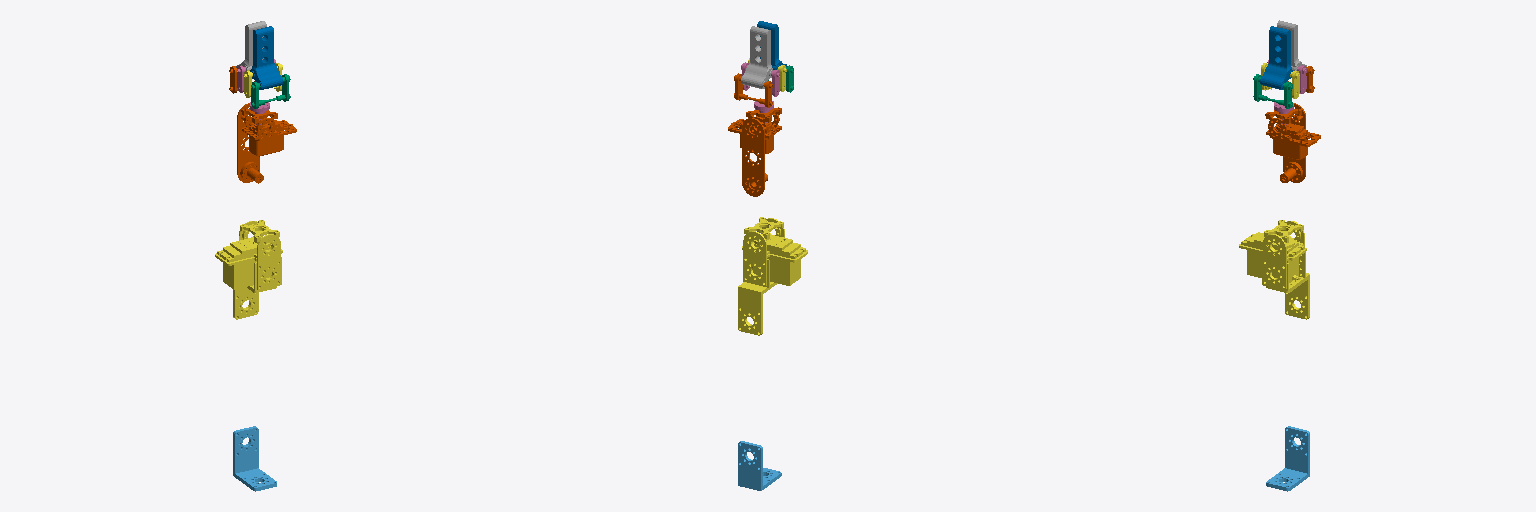
robot.urdf — kbot_arm:
<?xml version="1.0" ?>
<!-- =================================================================================== -->
<!-- |    This document was autogenerated by xacro from kbot.urdf.xacro                | -->
<!-- |    EDITING THIS FILE BY HAND IS NOT RECOMMENDED                                 | -->
<!-- =================================================================================== -->
<robot name="kbot_arm" xmlns:xacro="http://ros.org/wiki/xacro">
  <!-- links: main serial chain -->
  <link name="base_link">
    <visual>
      <origin rpy="0 0 0" xyz="0 0 0"/>
      <geometry>
        <mesh filename="package://kbot_arm/meshes/visual/base_link.stl"/>
      </geometry>
    </visual>
    <collision>
      <origin rpy="0 0 0" xyz="0 0 0"/>
      <geometry>
        <mesh filename="package://kbot_arm/meshes/visual/base_link.stl"/>
      </geometry>
    </collision>
  </link>
  <link name="link_1">
    <inertial>
      <origin rpy="0 0 0" xyz="0.024447 -0.021134 -1.8077E-17"/>
      <mass value="0.019005"/>
      <inertia ixx="0" ixy="0" ixz="0" iyy="0" iyz="0" izz="0"/>
    </inertial>
    <visual>
      <origin rpy="0 0 0" xyz="0 0 0"/>
      <geometry>
        <mesh filename="package://kbot_arm/meshes/visual/proximal_arm_roll.stl"/>
      </geometry>
    </visual>
    <collision>
      <origin rpy="0 0 0" xyz="0 0 0"/>
      <geometry>
        <mesh filename="package://kbot_arm/meshes/visual/proximal_arm_roll.stl"/>
      </geometry>
    </collision>
  </link>
  <link name="link_2">
    <inertial>
      <origin rpy="0 0 0" xyz="-0.0925593094846925 -0.00915463972546963 -9.9500450073132E-17"/>
      <mass value="0.130669135830331"/>
      <inertia ixx="0" ixy="0" ixz="0" iyy="0" iyz="0" izz="0"/>
    </inertial>
    <visual>
      <origin rpy="0 0 0" xyz="0 0 0"/>
      <geometry>
        <mesh filename="package://kbot_arm/meshes/visual/proximal_arm_pitch.stl"/>
      </geometry>
    </visual>
    <collision>
      <origin rpy="0 0 0" xyz="0 0 0"/>
      <geometry>
        <mesh filename="package://kbot_arm/meshes/visual/proximal_arm_pitch.stl"/>
      </geometry>
    </collision>
  </link>
  <link name="link_3">
    <visual>
      <origin rpy="0 0 0" xyz="0 0 0"/>
      <geometry>
        <mesh filename="package://kbot_arm/meshes/visual/medial_arm_pitch.stl"/>
      </geometry>
    </visual>
    <collision>
      <origin rpy="0 0 0" xyz="0 0 0"/>
      <geometry>
        <mesh filename="package://kbot_arm/meshes/visual/medial_arm_pitch.stl"/>
      </geometry>
    </collision>
  </link>
  <link name="link_4">
    <visual>
      <origin rpy="0 0 0" xyz="0 0 0"/>
      <geometry>
        <mesh filename="package://kbot_arm/meshes/visual/medial_arm_roll.stl"/>
      </geometry>
    </visual>
    <collision>
      <origin rpy="0 0 0" xyz="0 0 0"/>
      <geometry>
        <mesh filename="package://kbot_arm/meshes/visual/medial_arm_roll.stl"/>
      </geometry>
    </collision>
  </link>
  <link name="link_5">
    <visual>
      <origin rpy="0 0 0" xyz="0 0 0"/>
      <geometry>
        <mesh filename="package://kbot_arm/meshes/visual/distal_arm_pitch.stl"/>
      </geometry>
    </visual>
    <collision>
      <origin rpy="0 0 0" xyz="0 0 0"/>
      <geometry>
        <mesh filename="package://kbot_arm/meshes/visual/distal_arm_pitch.stl"/>
      </geometry>
    </collision>
  </link>
  <link name="link_6">
    <visual>
      <origin rpy="0 0 0" xyz="0 0 0"/>
      <geometry>
        <mesh filename="package://kbot_arm/meshes/visual/distal_arm_roll.stl"/>
      </geometry>
    </visual>
    <collision>
      <origin rpy="0 0 0" xyz="0 0 0"/>
      <geometry>
        <mesh filename="package://kbot_arm/meshes/visual/distal_arm_roll.stl"/>
      </geometry>
    </collision>
  </link>
  <!-- joints: main serial chain -->
  <joint name="joint_1" type="revolute">
    <origin rpy="0 0 0" xyz="0 0 0.068"/>
    <parent link="base_link"/>
    <child link="link_1"/>
    <axis xyz="0 0 1"/>
    <limit effort="0" lower="-3.14159" upper="3.14159" velocity="3.67"/>
  </joint>
  <joint name="joint_2" type="revolute">
    <origin rpy="0 0 0" xyz="0 0 0.04448"/>
    <parent link="link_1"/>
    <child link="link_2"/>
    <axis xyz="0 1 0"/>
    <limit effort="0" lower="-2.15" upper="2.15" velocity="3.32"/>
  </joint>
  <joint name="joint_3" type="revolute">
    <origin rpy="0 0 0" xyz="0 0 0.18744"/>
    <parent link="link_2"/>
    <child link="link_3"/>
    <axis xyz="0 1 0"/>
    <limit effort="0" lower="-2.2" upper="2.05" velocity="3.67"/>
  </joint>
  <joint name="joint_4" type="revolute">
    <origin rpy="0 0 0" xyz="0 0 0.10293"/>
    <parent link="link_3"/>
    <child link="link_4"/>
    <axis xyz="0 0 1"/>
    <limit effort="0" lower="-3.14159" upper="3.14159" velocity="6.98"/>
  </joint>
  <joint name="joint_5" type="revolute">
    <origin rpy="0 0 0" xyz="0 0 0.08255"/>
    <parent link="link_4"/>
    <child link="link_5"/>
    <axis xyz="0 1 0"/>
    <limit effort="0" lower="-2" upper="2.3" velocity="6.98"/>
  </joint>
  <joint name="joint_6" type="revolute">
    <origin rpy="0 0 0" xyz="0 0 0.07675"/>
    <parent link="link_5"/>
    <child link="link_6"/>
    <axis xyz="0 0 1"/>
    <limit effort="0" lower="-3.14159" upper="3.14159" velocity="10.47"/>
  </joint>
  <!-- ROS-Industrial 'base' frame: base_link to Fanuc World Coordinates transform -->
  <link name="world"/>
  <joint name="base_joint" type="fixed">
    <origin rpy="0 0 0" xyz="0 0 0"/>
    <parent link="world"/>
    <child link="base_link"/>
  </joint>
  <!-- ROS-Industrial 'flange' frame: attachment point for EEF models
    <link name="${prefix}flange" />
    <joint name="${prefix}joint_6-flange" type="fixed">
      <origin xyz="0 0 0" rpy="0 0 0" />
      <parent link="${prefix}link_6" />
      <child link="${prefix}flange" />
    </joint>-->
  <!-- ROS-Industrial 'tool0' frame: all-zeros tool frame -->
  <link name="tool0"/>
  <joint name="link_6-tool0" type="fixed">
    <origin rpy="0 0 0" xyz="0 0 0.02540"/>
    <parent link="link_6"/>
    <child link="tool0"/>
  </joint>
  <!-- links: main serial chain -->
  <link name="palm">
    <visual>
      <origin rpy="0 0 0" xyz="0 0 0"/>
      <geometry>
        <mesh filename="package://kbot_arm/meshes//gripper/visual/kbot_gripper_base.stl"/>
      </geometry>
    </visual>
    <collision>
      <origin rpy="0 0 0" xyz="0 0 0"/>
      <geometry>
        <mesh filename="package://kbot_arm/meshes//gripper/visual/kbot_gripper_base.stl"/>
      </geometry>
    </collision>
  </link>
  <link name="left_outer_link">
    <visual>
      <origin rpy="0 0 0" xyz="0 0 0"/>
      <geometry>
        <mesh filename="package://kbot_arm/meshes/gripper/visual/kbot_gripper_leftouterlink.stl"/>
      </geometry>
    </visual>
    <collision>
      <origin rpy="0 0 0" xyz="0 0 0"/>
      <geometry>
        <mesh filename="package://kbot_arm/meshes/gripper/visual/kbot_gripper_leftouterlink.stl"/>
      </geometry>
    </collision>
  </link>
  <link name="left_inner_link">
    <visual>
      <origin rpy="0 0 0" xyz="0 0 0"/>
      <geometry>
        <mesh filename="package://kbot_arm/meshes/gripper/visual/kbot_gripper_leftinnerlink.stl"/>
      </geometry>
    </visual>
    <collision>
      <origin rpy="0 0 0" xyz="0 0 0"/>
      <geometry>
        <mesh filename="package://kbot_arm/meshes/gripper/visual/kbot_gripper_leftinnerlink.stl"/>
      </geometry>
    </collision>
  </link>
  <link name="left_finger">
    <visual>
      <origin rpy="0 0 0" xyz="0 0 0"/>
      <geometry>
        <mesh filename="package://kbot_arm/meshes/gripper/visual/kbot_gripper_leftfinger.stl"/>
      </geometry>
    </visual>
    <collision>
      <origin rpy="0 0 0" xyz="0 0 0"/>
      <geometry>
        <mesh filename="package://kbot_arm/meshes/gripper/visual/kbot_gripper_leftfinger.stl"/>
      </geometry>
    </collision>
  </link>
  <link name="right_outer_link">
    <visual>
      <origin rpy="0 0 0" xyz="0 0 0"/>
      <geometry>
        <mesh filename="package://kbot_arm/meshes/gripper/visual/kbot_gripper_rightouterlink.stl"/>
      </geometry>
    </visual>
    <collision>
      <origin rpy="0 0 0" xyz="0 0 0"/>
      <geometry>
        <mesh filename="package://kbot_arm/meshes/gripper/visual/kbot_gripper_rightouterlink.stl"/>
      </geometry>
    </collision>
  </link>
  <link name="right_inner_link">
    <visual>
      <origin rpy="0 0 0" xyz="0 0 0"/>
      <geometry>
        <mesh filename="package://kbot_arm/meshes/gripper/visual/kbot_gripper_rightinnerlink.stl"/>
      </geometry>
    </visual>
    <collision>
      <origin rpy="0 0 0" xyz="0 0 0"/>
      <geometry>
        <mesh filename="package://kbot_arm/meshes/gripper/visual/kbot_gripper_rightinnerlink.stl"/>
      </geometry>
    </collision>
  </link>
  <link name="right_finger">
    <visual>
      <origin rpy="0 0 0" xyz="0 0 0"/>
      <geometry>
        <mesh filename="package://kbot_arm/meshes/gripper/visual/kbot_gripper_rightfinger.stl"/>
      </geometry>
    </visual>
    <collision>
      <origin rpy="0 0 0" xyz="0 0 0"/>
      <geometry>
        <mesh filename="package://kbot_arm/meshes/gripper/visual/kbot_gripper_rightfinger.stl"/>
      </geometry>
    </collision>
  </link>
  <!-- joints: main serial chain -->
  <joint name="l_joint_0" type="revolute">
    <origin rpy="0 0 0" xyz="0 -0.0085 0.024"/>
    <parent link="palm"/>
    <child link="left_inner_link"/>
    <axis xyz="1 0 0"/>
    <limit effort="0" lower="0" upper="1.26" velocity="3.67"/>
  </joint>
  <joint name="l_joint_1" type="revolute">
    <origin rpy="0 0 0" xyz="0 -0.0265 0.016"/>
    <parent link="palm"/>
    <child link="left_outer_link"/>
    <axis xyz="1 0 0"/>
    <limit effort="0" lower="0" upper="1.26" velocity="3.67"/>
    <mimic joint="l_joint_0" multiplier="1" offset="0"/>
  </joint>
  <joint name="l_joint_2" type="revolute">
    <origin rpy="0 0 0" xyz="0 0 0.024"/>
    <parent link="left_inner_link"/>
    <child link="left_finger"/>
    <axis xyz="1 0 0"/>
    <limit effort="0" lower="0" upper="1.26" velocity="3.67"/>
    <mimic joint="l_joint_0" multiplier="-1" offset="0"/>
  </joint>
  <joint name="r_joint_0" type="revolute">
    <origin rpy="0 0 0" xyz="0 0.0085 0.024"/>
    <parent link="palm"/>
    <child link="right_inner_link"/>
    <axis xyz="1 0 0"/>
    <limit effort="0" lower="-1.26" upper="0" velocity="3.67"/>
  </joint>
  <joint name="r_joint_1" type="revolute">
    <origin rpy="0 0 0" xyz="0 0.0265 0.016"/>
    <parent link="palm"/>
    <child link="right_outer_link"/>
    <axis xyz="1 0 0"/>
    <limit effort="0" lower="0" upper="-1.26" velocity="3.67"/>
    <mimic joint="r_joint_0" multiplier="1" offset="0"/>
  </joint>
  <joint name="r_joint_2" type="revolute">
    <origin rpy="0 0 0" xyz="0 0 0.024"/>
    <parent link="right_inner_link"/>
    <child link="right_finger"/>
    <axis xyz="1 0 0"/>
    <limit effort="0" lower="0" upper="1.26" velocity="3.67"/>
    <mimic joint="r_joint_0" multiplier="-1" offset="0"/>
  </joint>
  <!-- ROS-Industrial 'base' frame: base_link to Fanuc World Coordinates transform 
    <link name="${prefix}base" />
    <joint name="${prefix}base_link-base" type="fixed">
      <origin xyz="0 0 0" rpy="0 0 0"/>
      <parent link="${prefix}base_link"/>
      <child link="${prefix}base"/>
    </joint> -->
  <!-- ROS-Industrial 'flange' frame: attachment point for EEF models
    <link name="${prefix}flange" />
    <joint name="${prefix}joint_6-flange" type="fixed">
      <origin xyz="0 0 0" rpy="0 0 0" />
      <parent link="${prefix}link_6" />
      <child link="${prefix}flange" />
    </joint>
-->
  <!-- ROS-Industrial 'tool0' frame: all-zeros tool frame 
    <link name="${prefix}tool0" />
    <joint name="${prefix}link_6-tool0" type="fixed">
      <origin xyz="0 0 0" rpy="0 0 0" />
      <parent link="${prefix}link_6" />
      <child link="${prefix}tool0" />
    </joint>-->
  <joint name="gripper_joint" type="fixed">
    <parent link="tool0"/>
    <child link="palm"/>
    <origin rpy="0 0 0" xyz="0 0 0"/>
  </joint>
</robot>

--- Render facts (derived) ---
The picture shows the robot from 3 angles, left to right: view 1: azimuth 30°, elevation 25°; view 2: azimuth 150°, elevation 25°; view 3: azimuth 330°, elevation 25°; orthographic projection.
Robot: kbot_arm — 16 links, 15 joints (12 revolute, 3 fixed); root link world; default pose: all joints at 0.
Links seen in each view (by area): view 1: link_3, link_5, link_1, left_finger; view 2: link_3, link_5, link_1, right_finger; view 3: link_3, link_5, link_1, left_finger.
Boxes of the visible links, bbox=[...] form: link_3: bbox=[215, 220, 282, 319]; link_5: bbox=[237, 103, 296, 183]; link_1: bbox=[233, 426, 276, 491]; left_finger: bbox=[250, 26, 282, 89]; link_3: bbox=[738, 217, 807, 335]; link_5: bbox=[728, 107, 781, 196]; link_1: bbox=[738, 441, 781, 490]; right_finger: bbox=[741, 26, 773, 88]; link_3: bbox=[1239, 220, 1309, 319]; link_5: bbox=[1265, 103, 1320, 182]; link_1: bbox=[1266, 426, 1309, 491]; left_finger: bbox=[1260, 26, 1292, 89].
Size in the robot's own frame: 0.1026 by 0.0699 by 0.6271 metres.
10 mesh visuals loaded from 14 distinct referenced files (10 binary STL); not drawn: 4 (reference not matched to a file when rendering).
